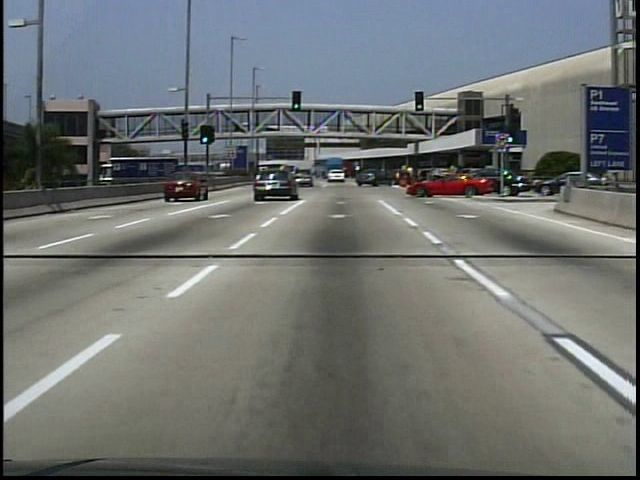person: (235, 123, 243, 136)
